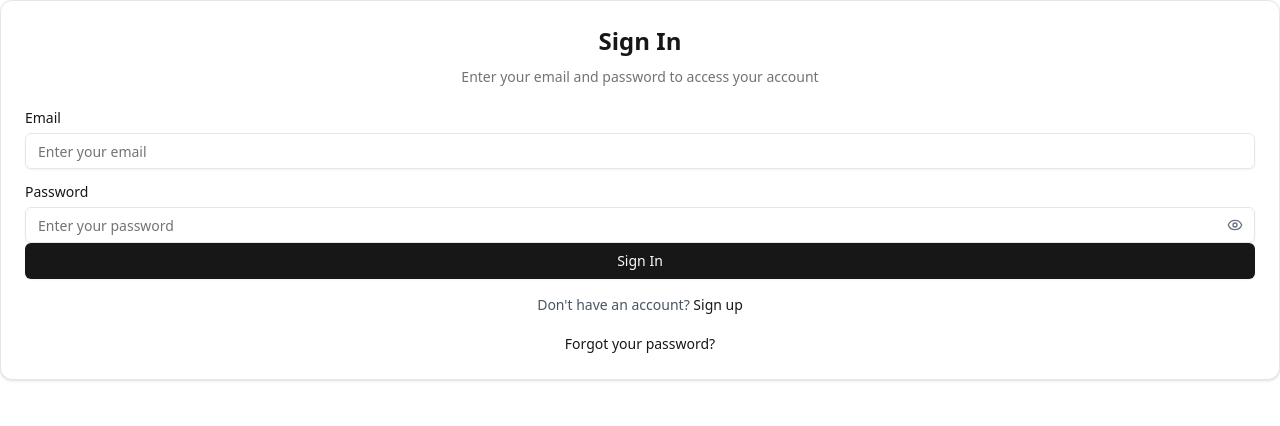
Test case: LoginForm › shows a validation error and does not submit when the email is invalid
Type "user@localhost" into the field labelled "Email" at coordinates (640, 151), box top-left (25, 133), bottom-right (1255, 169)
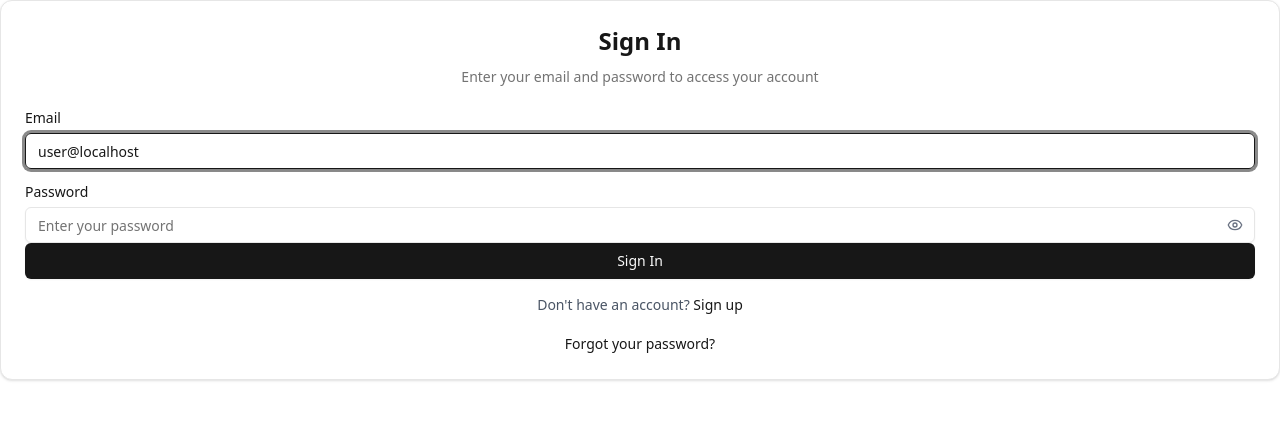
Type "secret123" into the password field labelled "Password" at coordinates (640, 225), box top-left (25, 207), bottom-right (1255, 243)
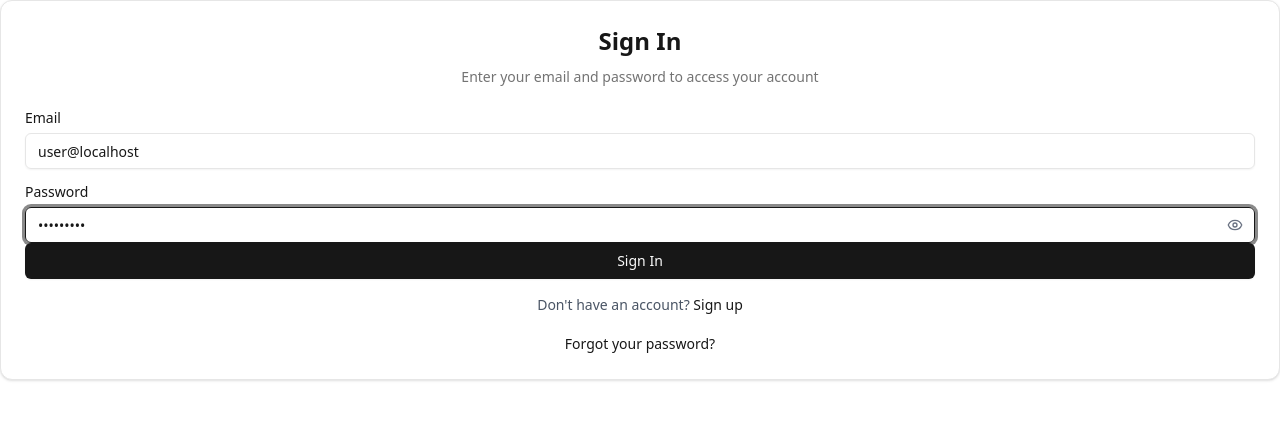
Click the button "Sign In" at coordinates (640, 261), box top-left (25, 243), bottom-right (1255, 279)
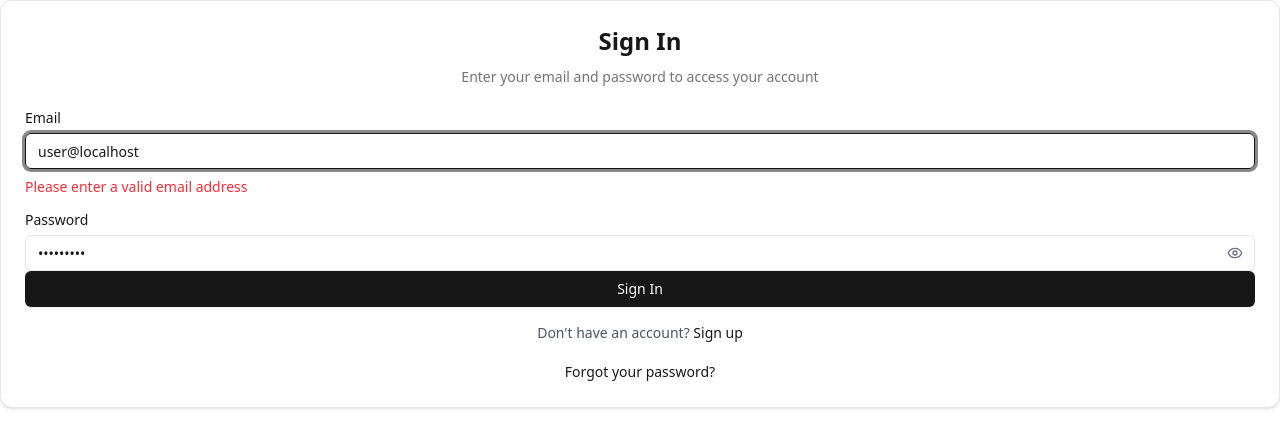
Expected: the text "Please enter a valid email address" is shown, top-left (25, 177), bottom-right (248, 196)
